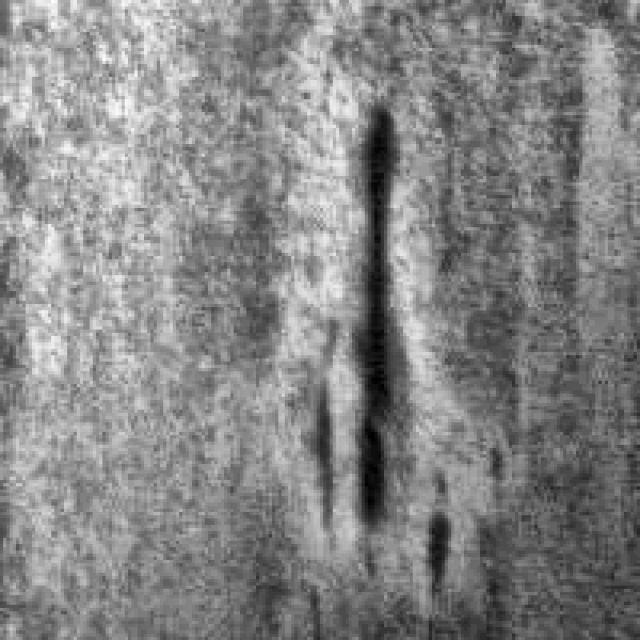Patches: (284, 96, 422, 544)
